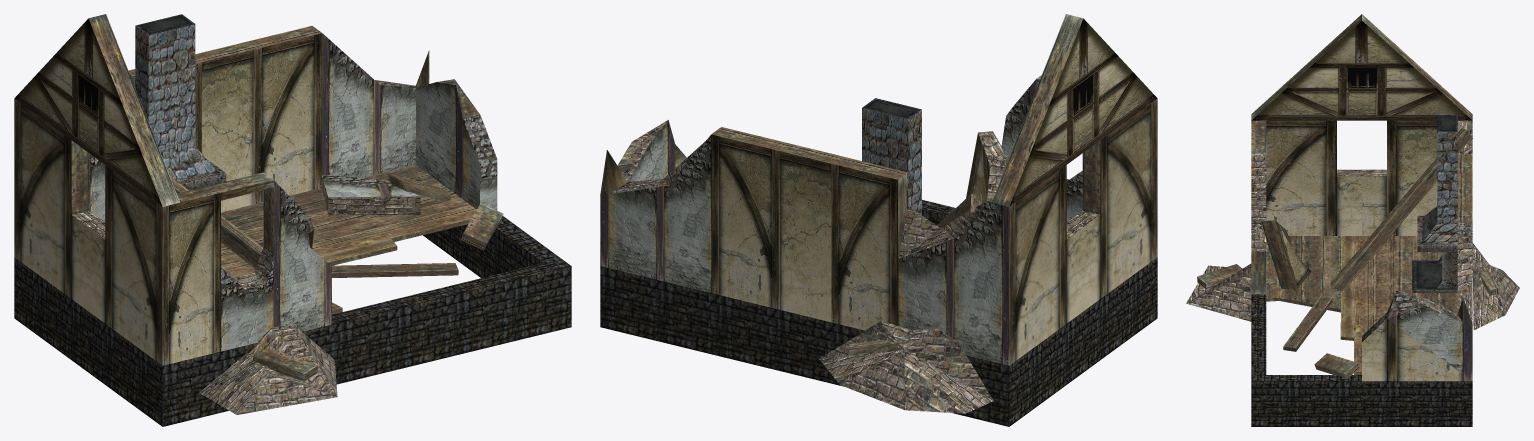
The model's file is S_Ruin03.glb.
3 renders of one model, left to right at view 1: azimuth 30°, elevation 25°; view 2: azimuth 150°, elevation 25°; view 3: azimuth 270°, elevation 25°, orthographic. The views are drawn at different scales.
Parts seen in each view (by area): view 1: S_Ruin03; view 2: S_Ruin03; view 3: S_Ruin03.
Boxes of the visible parts, box(x1,y1,x2,y2) form: S_Ruin03: box(14, 14, 571, 426); S_Ruin03: box(600, 14, 1157, 426); S_Ruin03: box(1186, 14, 1519, 426).
Size of the model in its own units: 7 by 5.8 by 6.64.
Materials: 12 (12 with a texture image).
